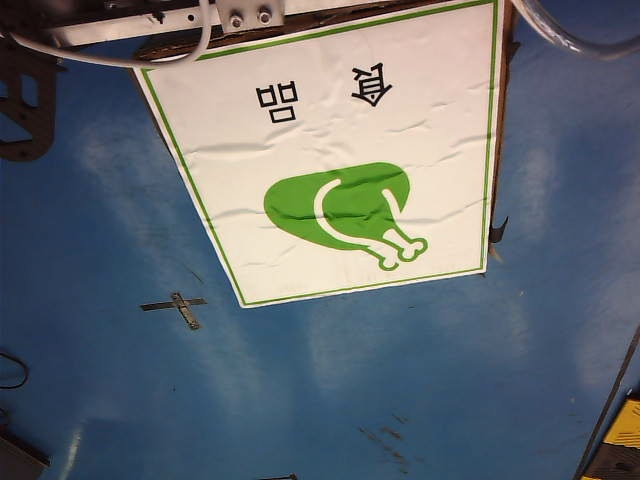Cube_food: (219, 49, 466, 281)
